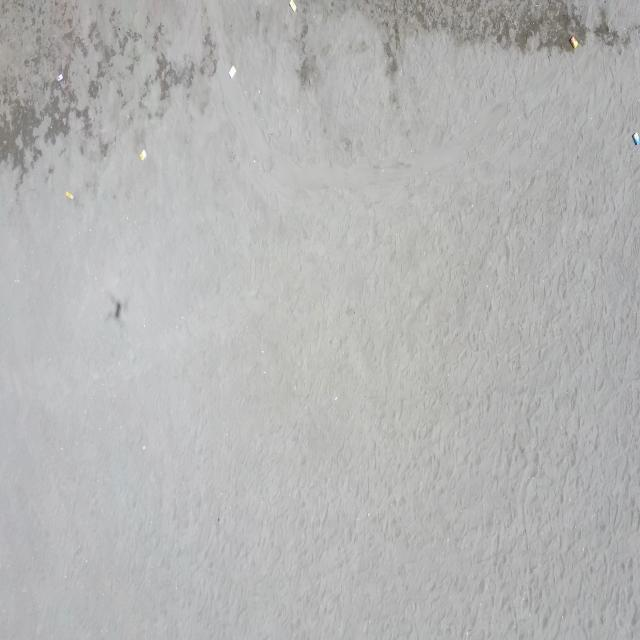Garbage: (569, 35, 579, 48), (228, 64, 236, 77), (288, 0, 296, 12), (138, 148, 145, 160), (633, 131, 639, 143), (64, 191, 72, 199), (56, 72, 63, 80)
